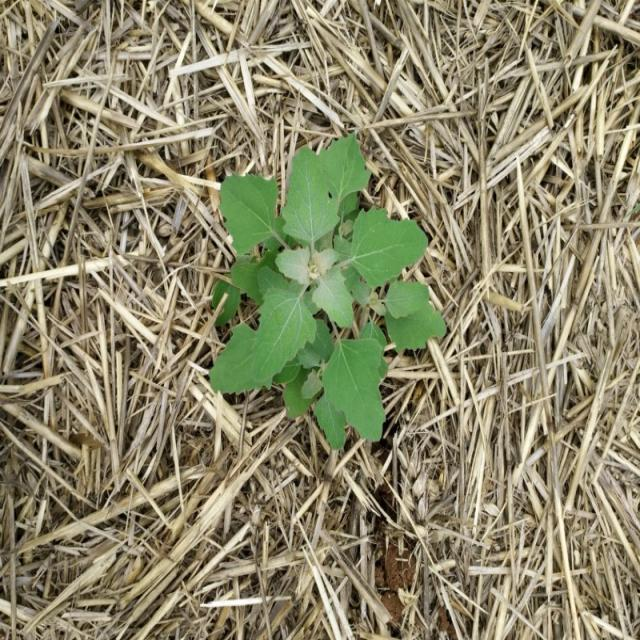ca: (209, 139, 444, 447)
